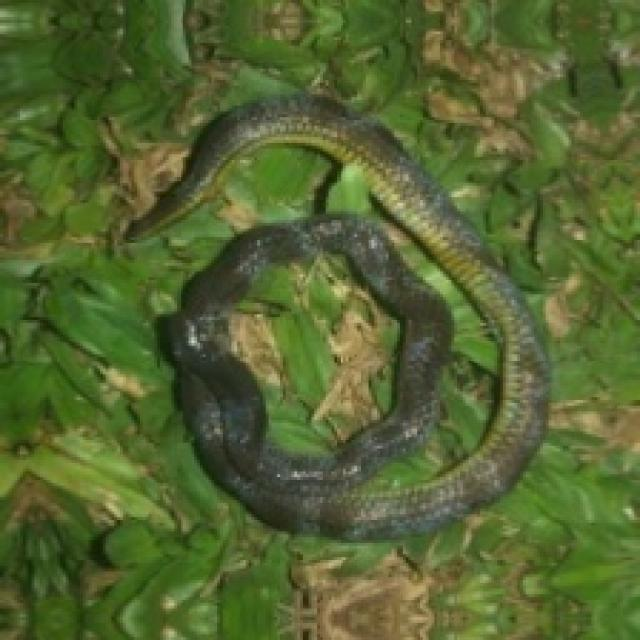gervais worm snake: (129, 94, 546, 537)
